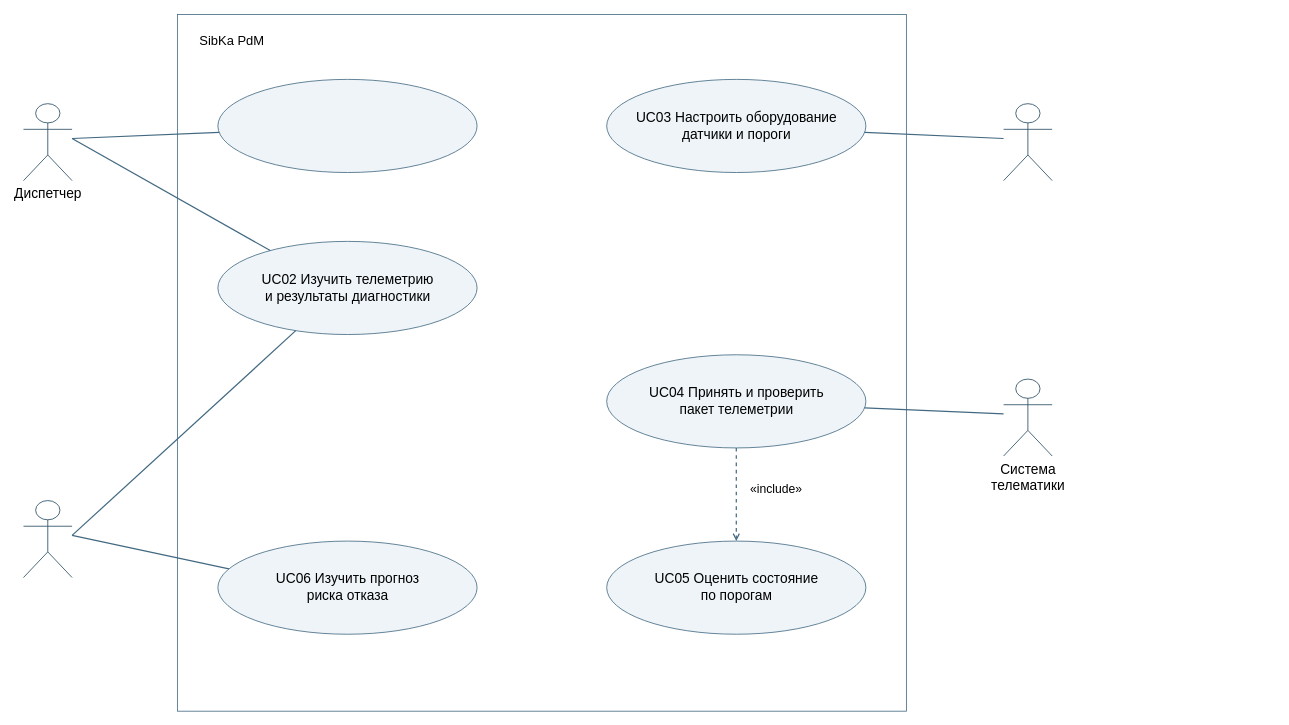
Image size: 1289x725. Some labels were removed from this diagram. Here are the shapes that lost their labels. From the top down, the box of each, then its label:
(217, 79, 477, 173): UC01 Просмотреть состояние парка и узлов
(1003, 103, 1052, 181): Администратор
(23, 500, 72, 578): Инженер диагност
